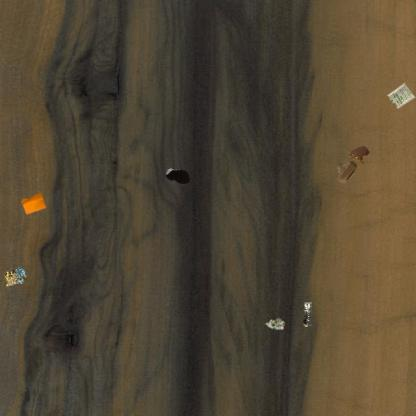dirty: (20, 190, 48, 216), (387, 82, 415, 108), (334, 158, 358, 184), (3, 265, 28, 288), (302, 301, 313, 327), (264, 317, 284, 330)
liquid: (164, 167, 192, 185), (347, 145, 371, 164)
